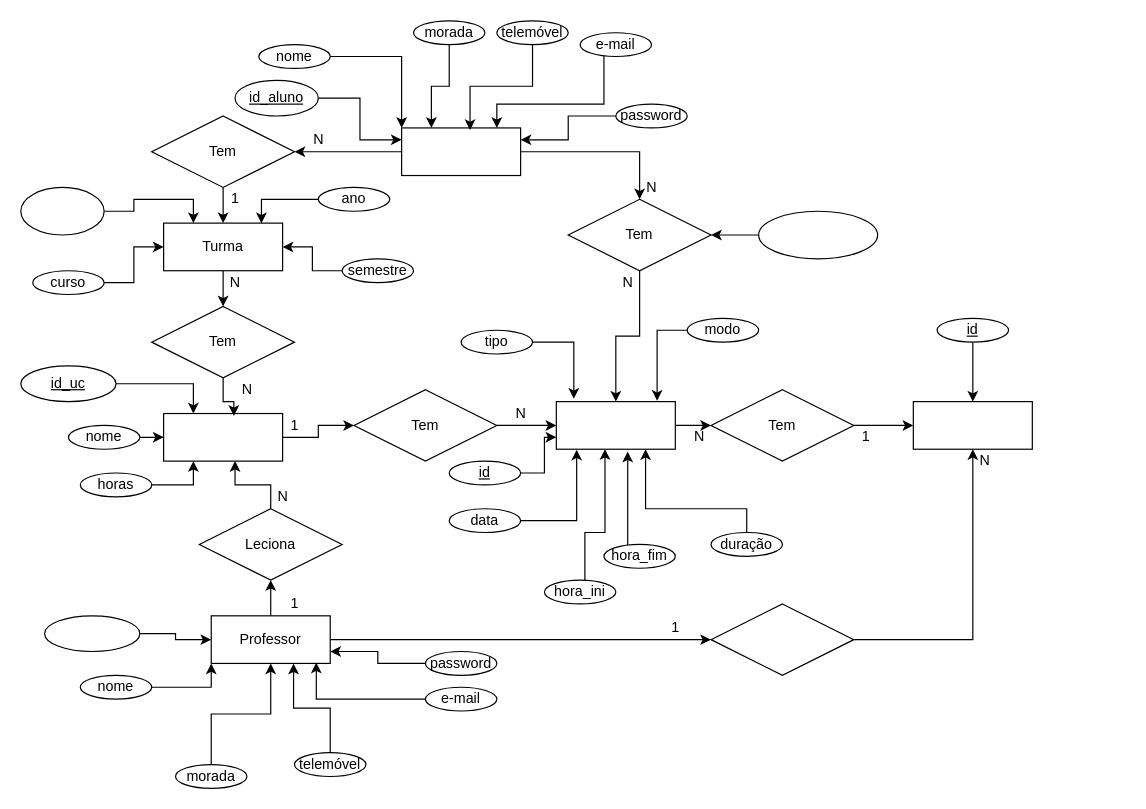
This 1146x809 diagram has some shape labels left out. The shapes that lost their labels are listed below. From the top down, each one's centre as x and y in pixels, then its label:
the point at 460,151: Aluno
the point at 62,210: id_turma
the point at 817,234: Presenças
the point at 222,436: Unidade Curricular
the point at 615,424: Aula
the point at 972,424: Sumário
the point at 91,633: id_prof
the point at 782,639: Escreve
